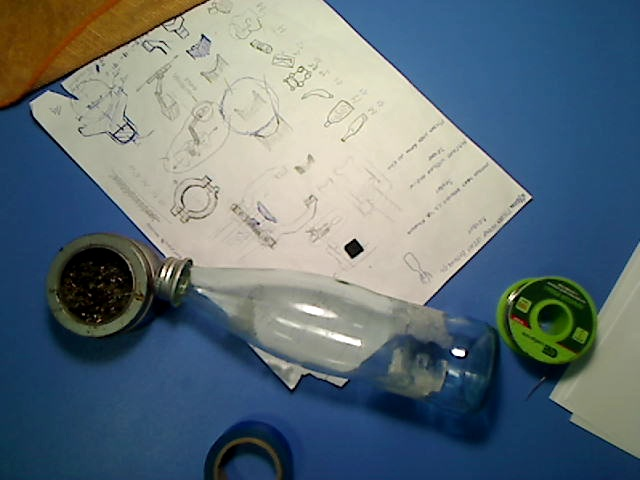bottle: (149, 255, 498, 418)
